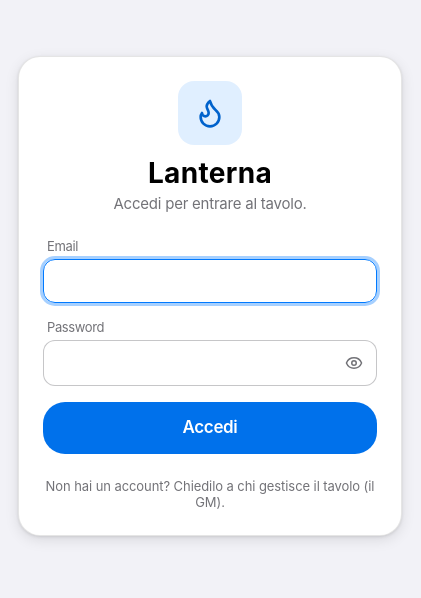
Test: login › server non raggiungibile: errore chiaro
This screenshot has width=421, height=598.
Type "a@b.it" into the field labelled "Email". click: (210, 281)
box: [56, 260, 364, 302]
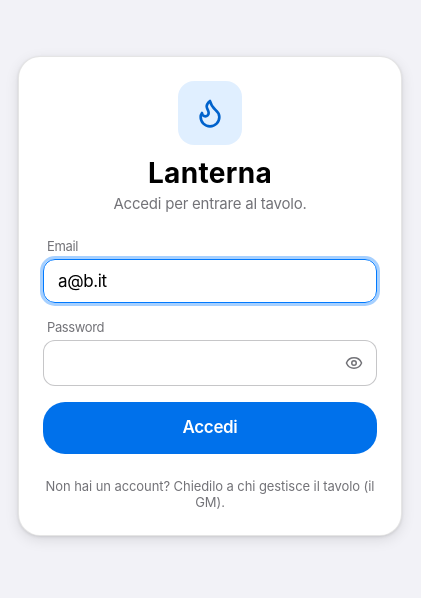
Type "x" into the password field labelled "Password". click: (194, 362)
box: [56, 340, 332, 384]
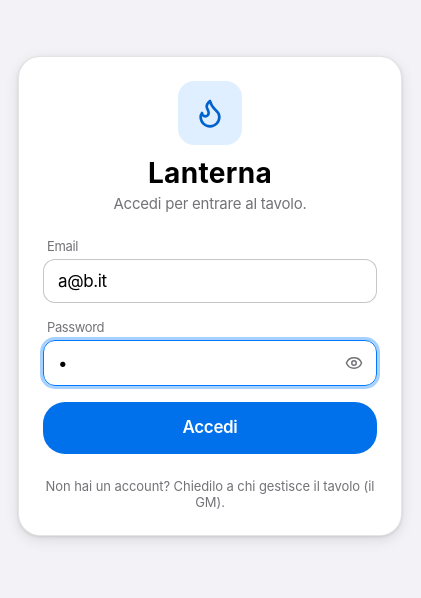
Click the button "Accedi". click: (210, 428)
box: [43, 402, 377, 454]
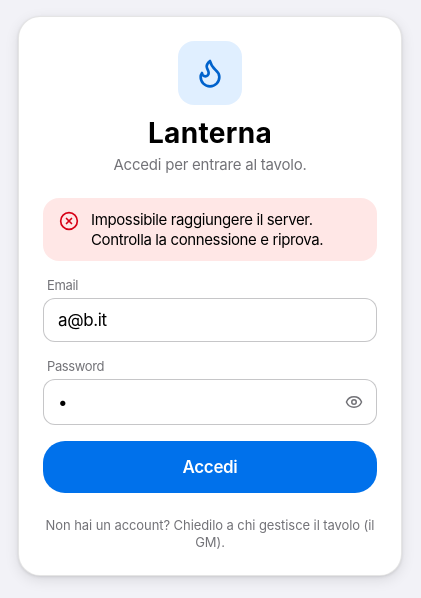
Now the message shows "Impossibile raggiungere il server", box [91, 210, 323, 249]
